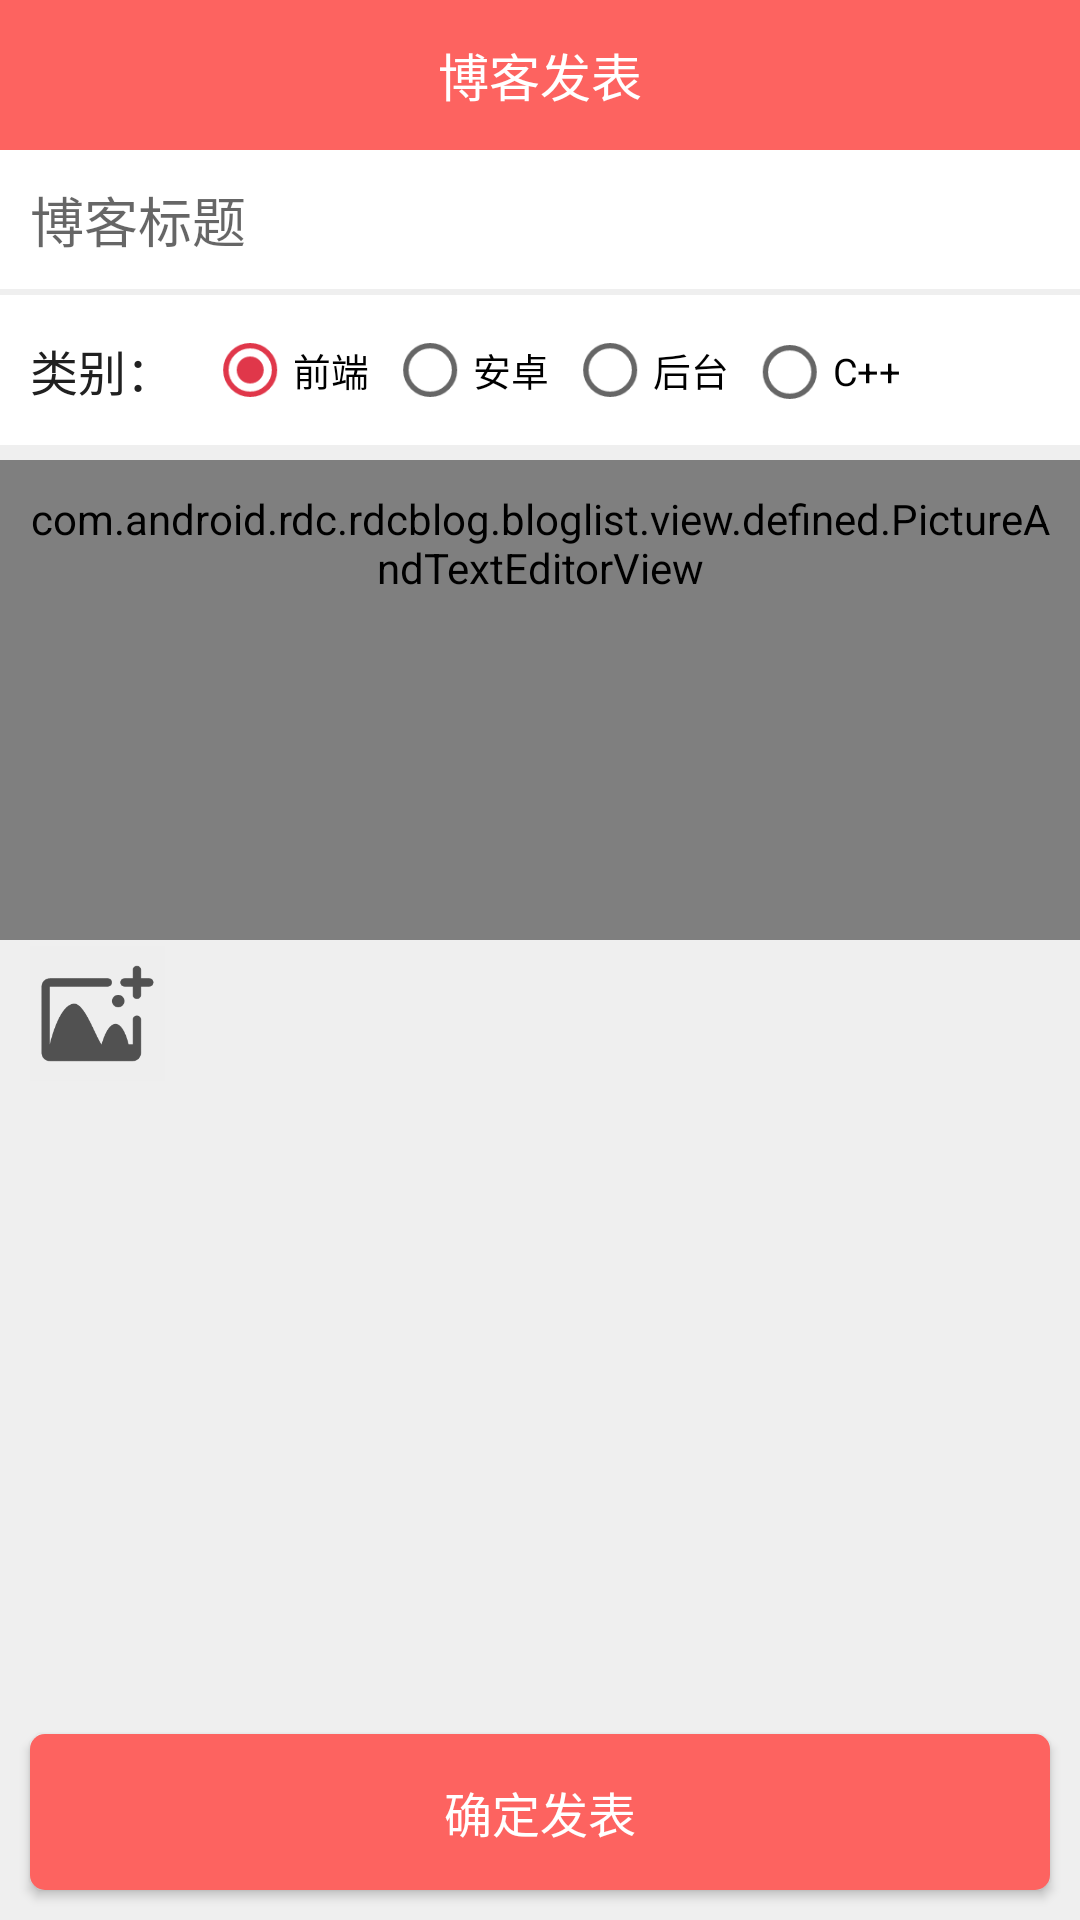

Named icons in this screenshot (1080w x 1920h) and their centers, (x=x, y=y):
blog publish add pic: (x=97, y=1014)
